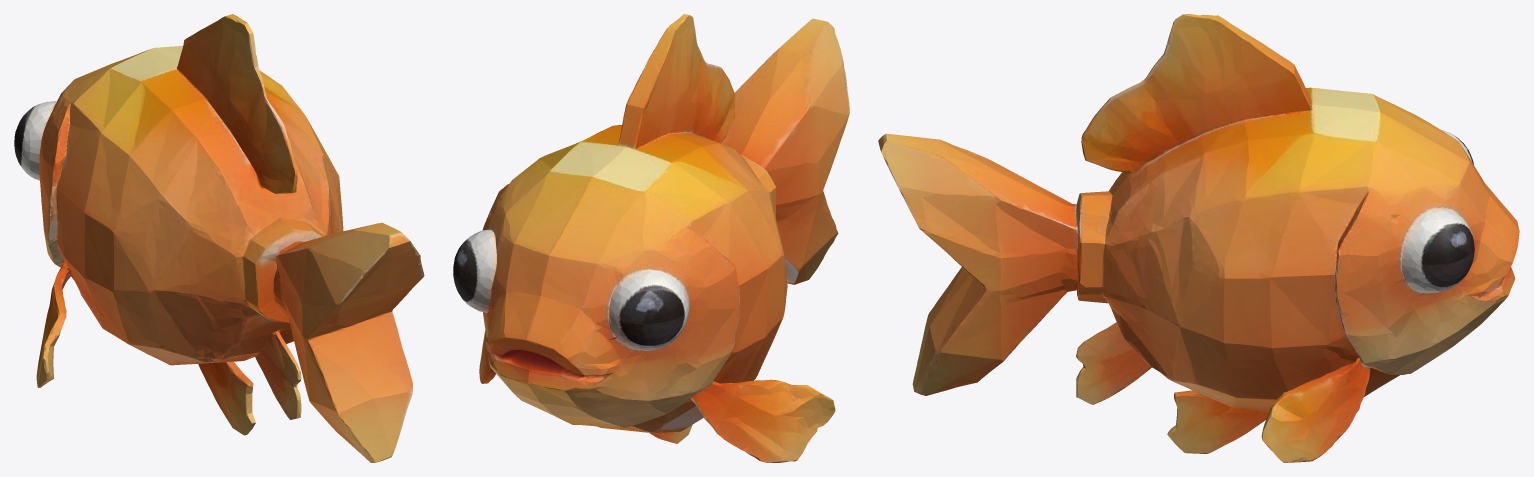
Rendered from orange+goldfish+3d+model.obj.
3 renders of one model, left to right at view 1: azimuth 30°, elevation 25°; view 2: azimuth 150°, elevation 25°; view 3: azimuth 270°, elevation 25°, orthographic. The views are drawn at different scales.
Parts seen in each view (by area): view 1: tripo_node_508376d6-8b56-46fb-82de-1c51f38d0aea; view 2: tripo_node_508376d6-8b56-46fb-82de-1c51f38d0aea; view 3: tripo_node_508376d6-8b56-46fb-82de-1c51f38d0aea.
Boxes of the visible parts, box(x1,y1,x2,y2) form: tripo_node_508376d6-8b56-46fb-82de-1c51f38d0aea: box(14, 14, 424, 462); tripo_node_508376d6-8b56-46fb-82de-1c51f38d0aea: box(453, 14, 849, 462); tripo_node_508376d6-8b56-46fb-82de-1c51f38d0aea: box(878, 14, 1519, 462).
Bounding box in the file's own units: 0.6363 × 0.756 × 1.
